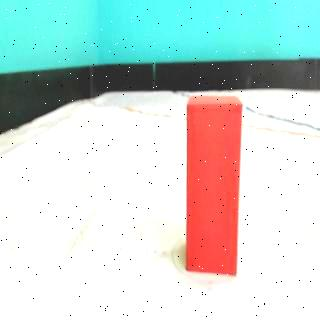redbox: (185, 96, 238, 276)
